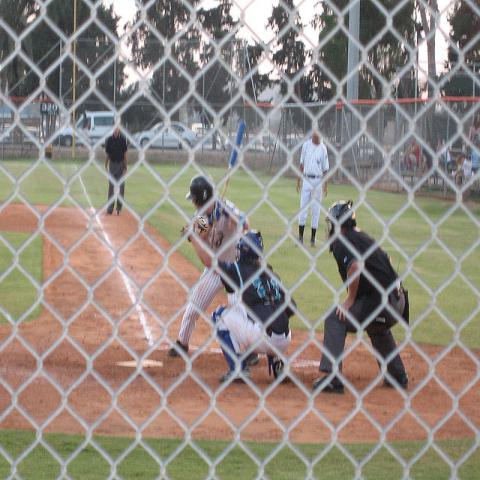car: (132, 120, 198, 150), (232, 131, 266, 152), (190, 122, 213, 148)
truck: (53, 110, 114, 146)
